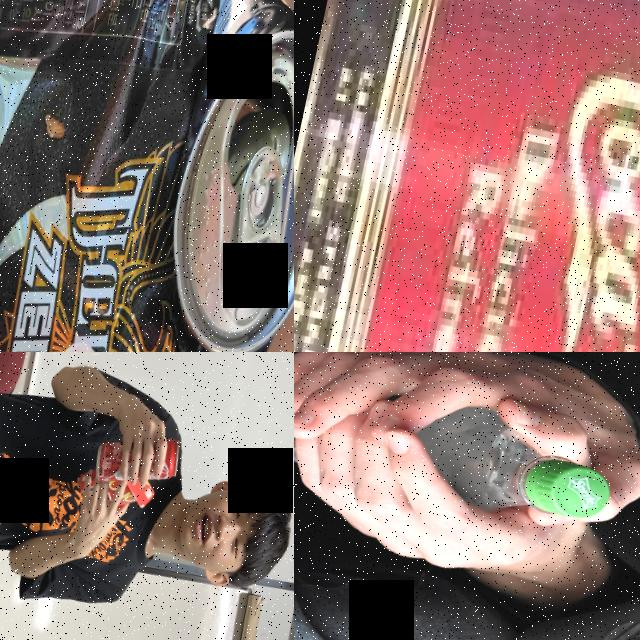bottle: (294, 352, 623, 534)
can: (89, 423, 182, 497)
